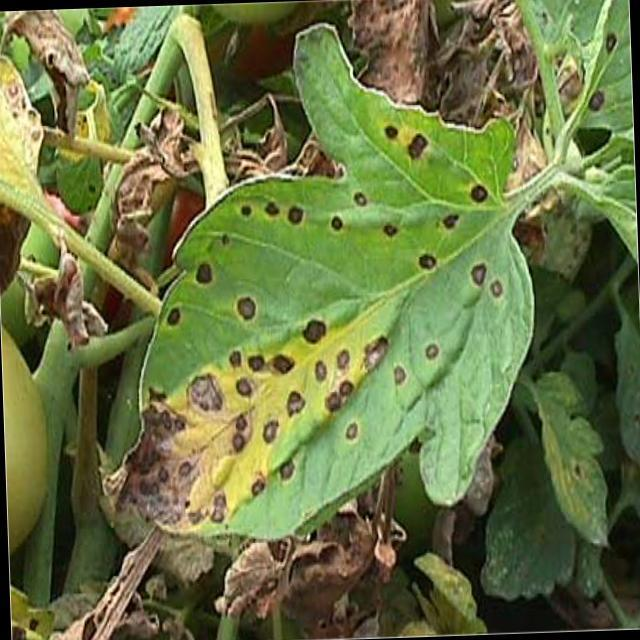Bacterial Spot: (144, 178, 520, 512)
